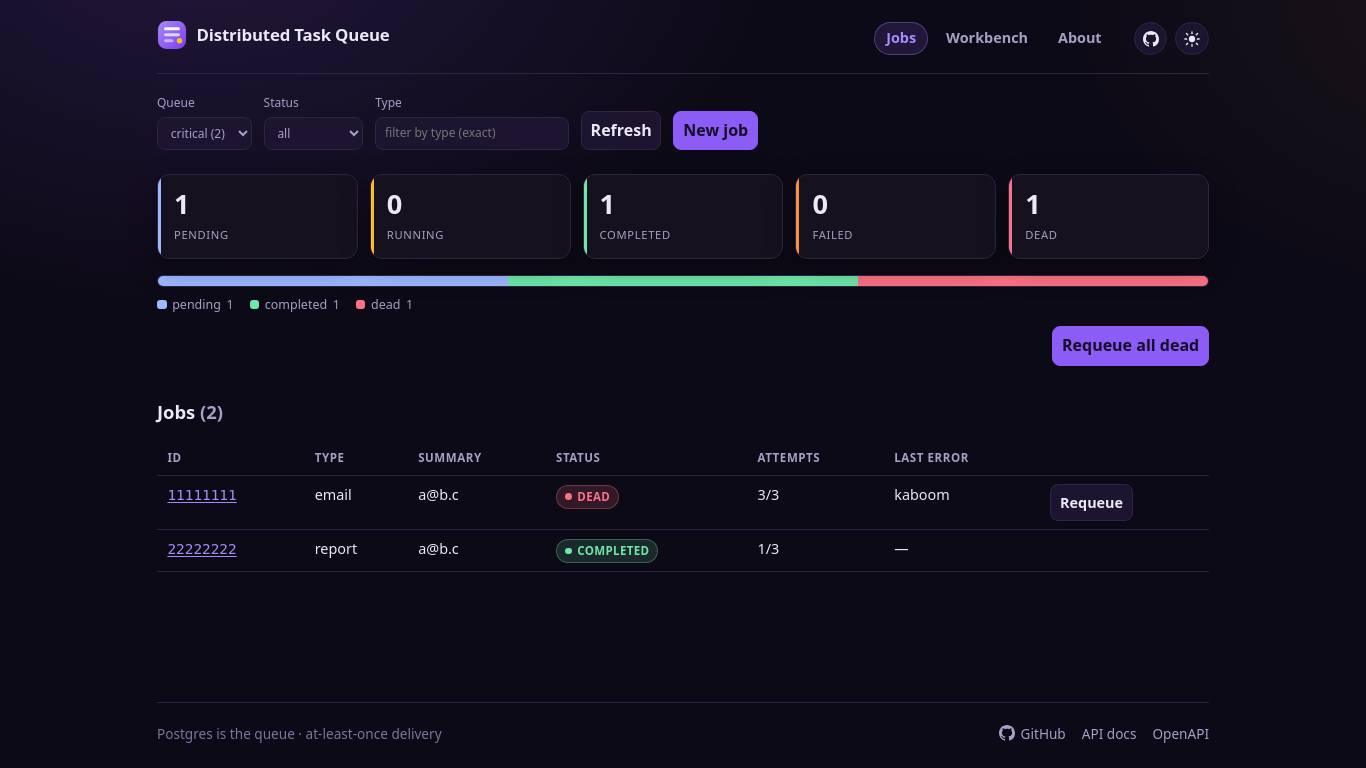
Test: App › POSTs to the requeue endpoint when Requeue is clicked
Click the button "Requeue". click: {"x": 1092, "y": 503}
box: 1050,484 -> 1133,521
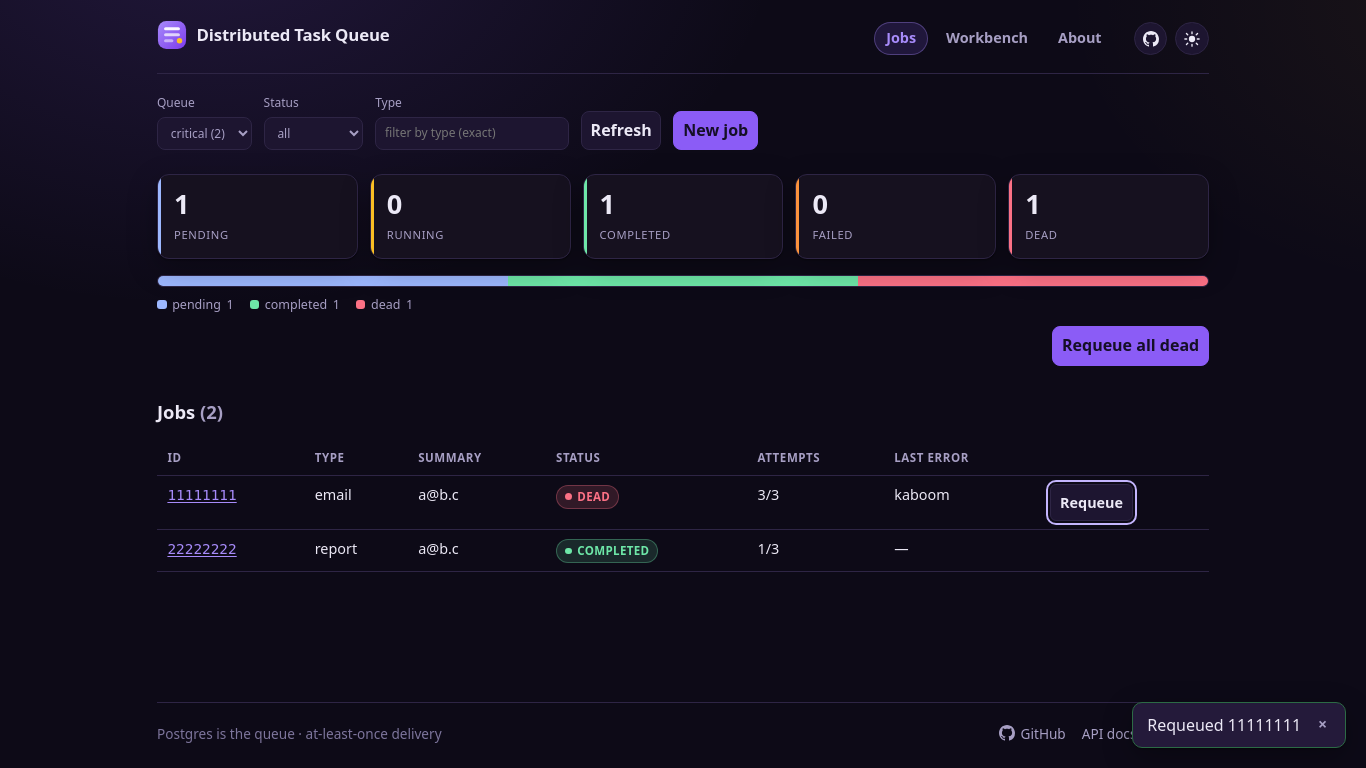
Expected: the message shows "Requeued", 1147,714 -> 1301,736
